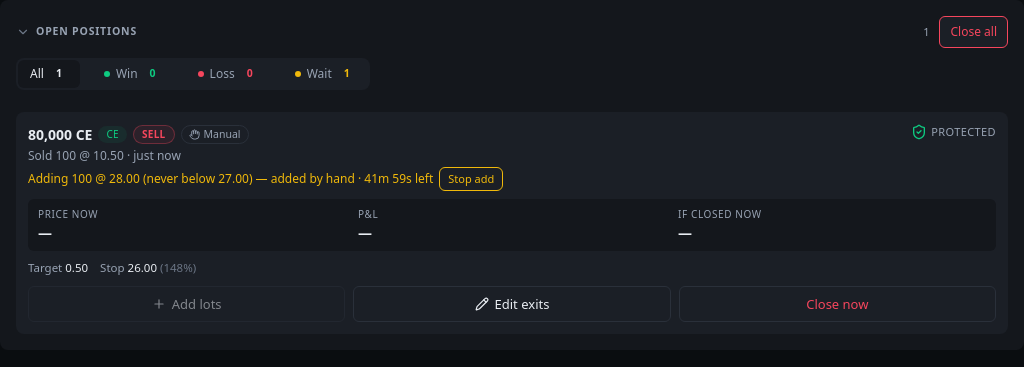
Test: a working add › cannot be pressed twice into the same add
Click the button "Stop add" at (471, 179), box [439, 167, 503, 191]
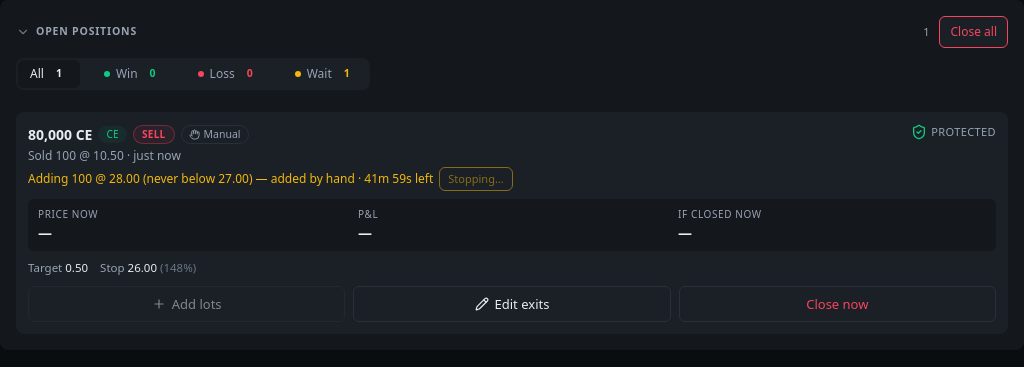
Check: the button "Stopping…" is disabled
Click the button "Stopping…" at (476, 179), box [439, 167, 513, 191]
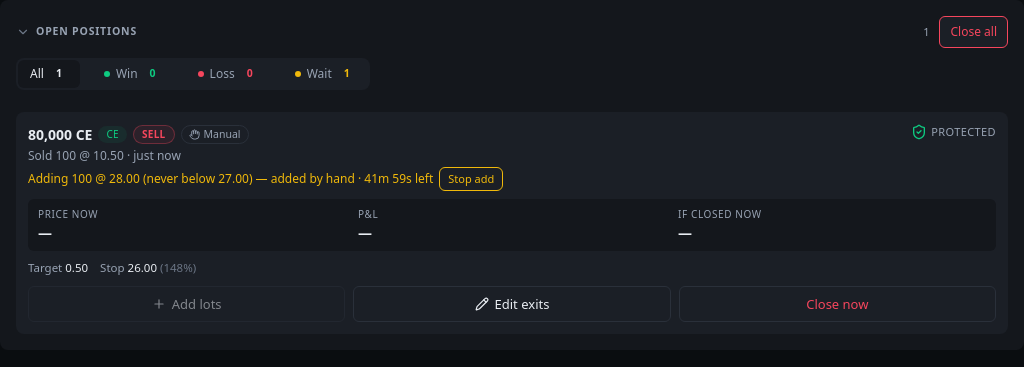
Check: the button "Stop add" is enabled, box [439, 167, 503, 191]
